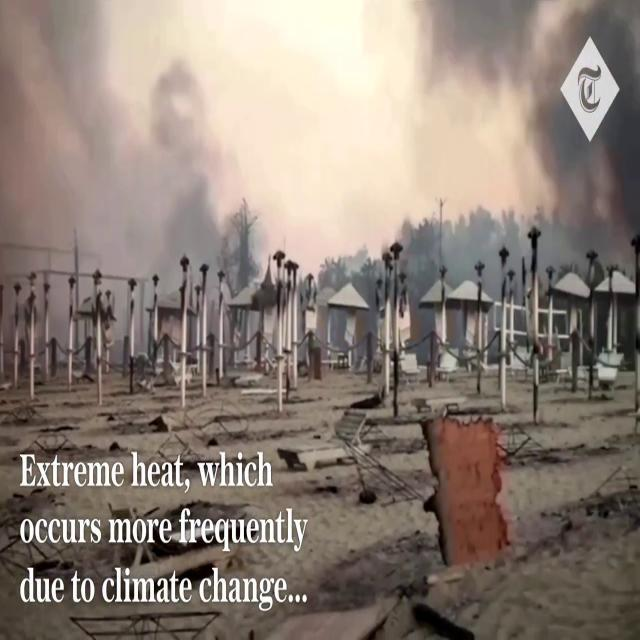Smoke: (0, 0, 266, 369), (443, 0, 640, 255)
